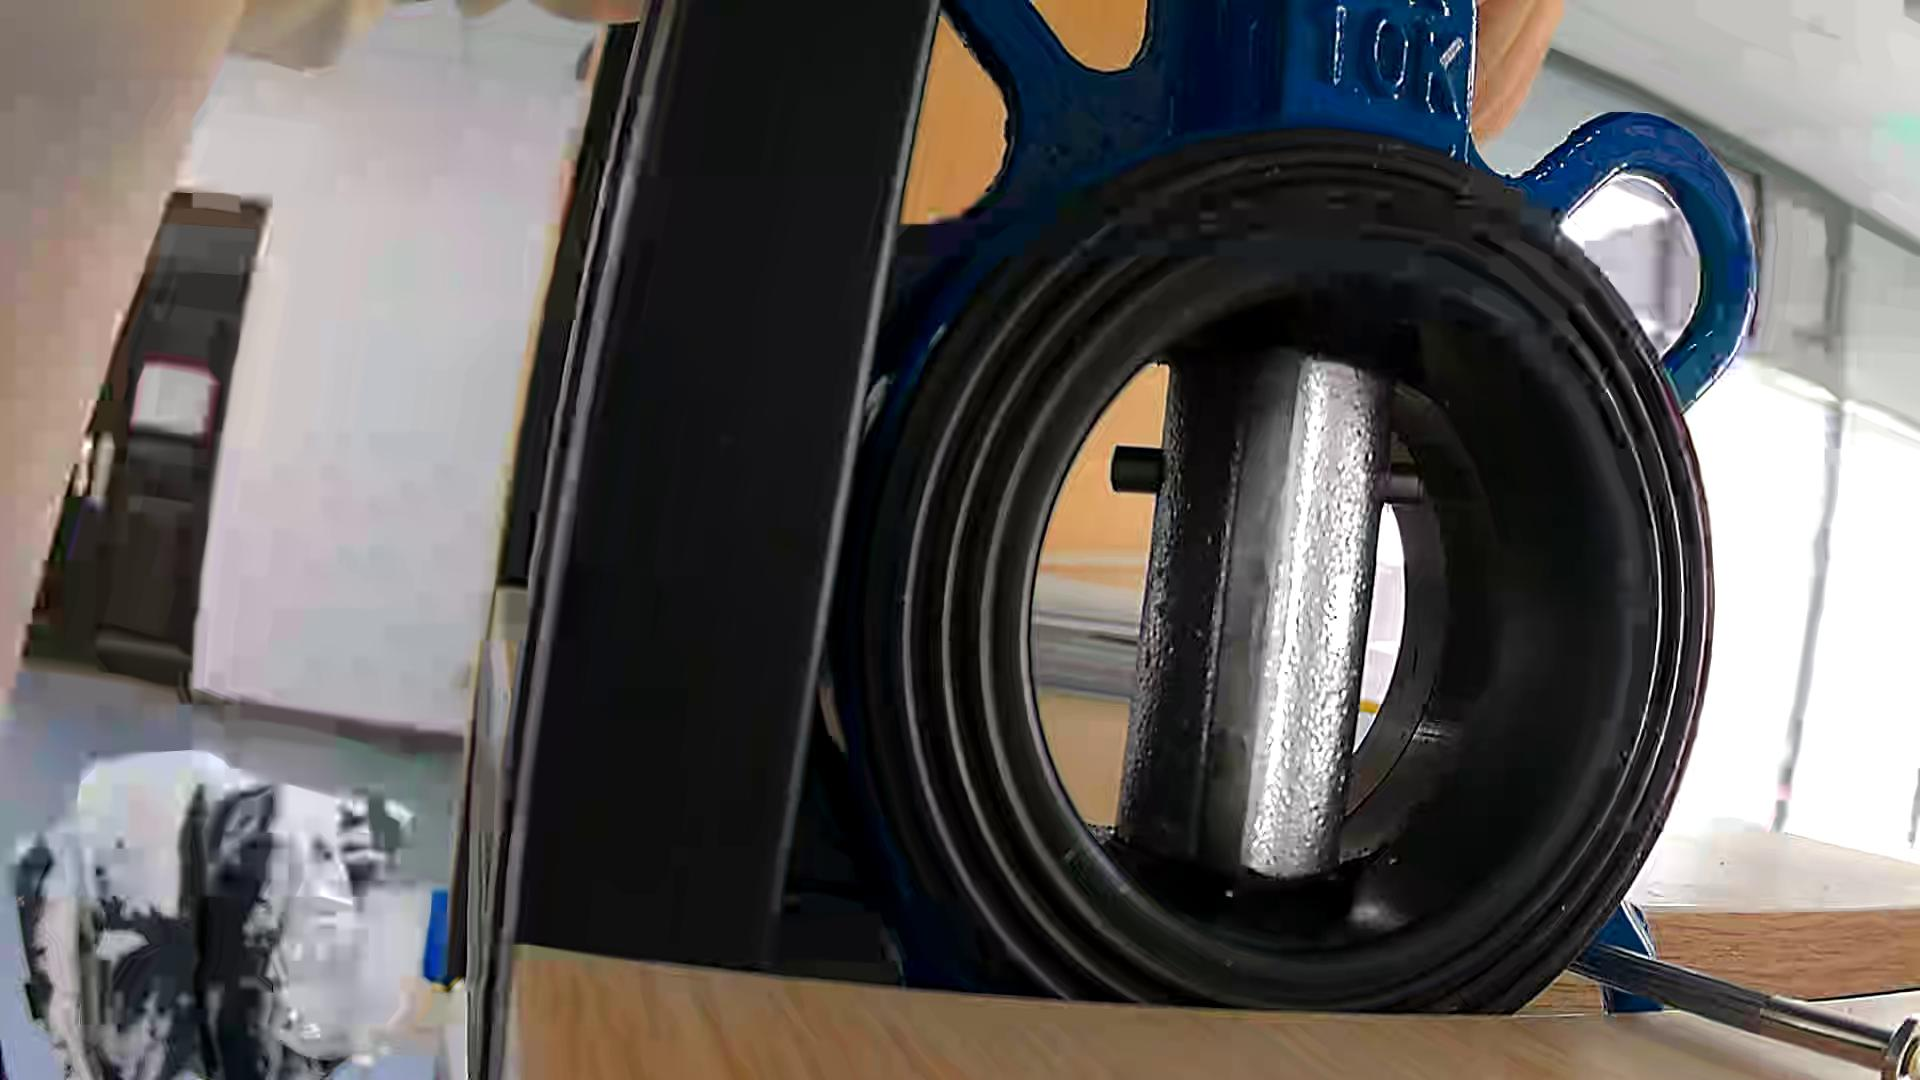valve: (1115, 342, 1426, 871)
